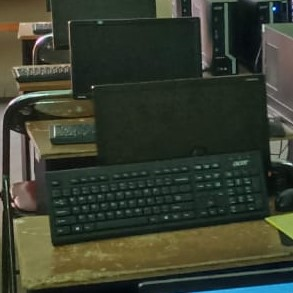monitor: (93, 74, 271, 168), (68, 17, 202, 99), (50, 0, 157, 51), (261, 23, 293, 126)
